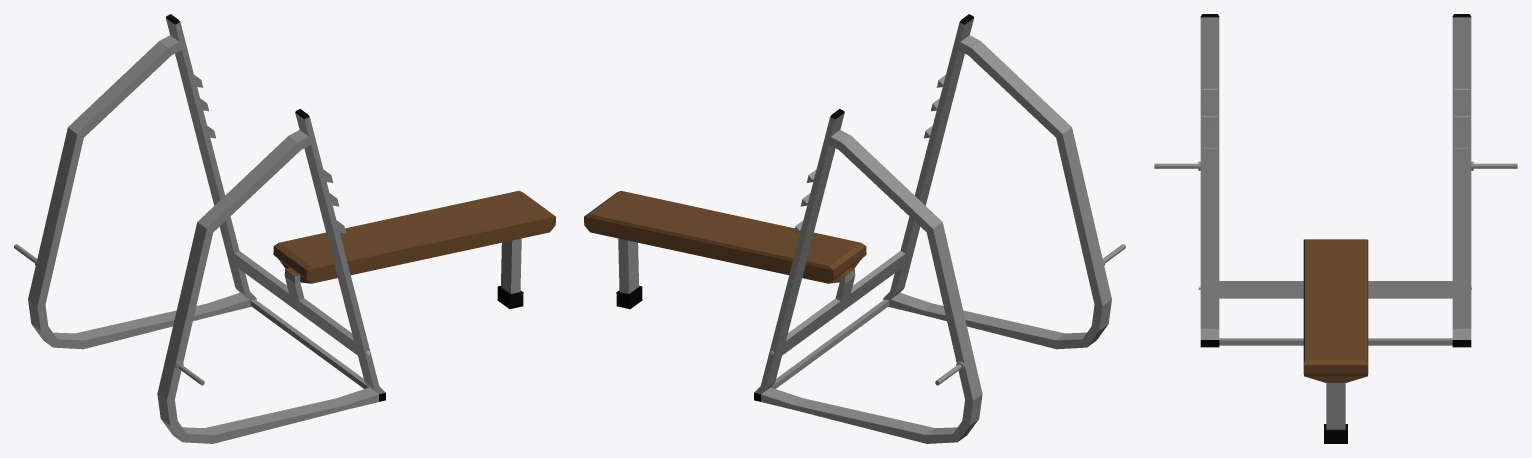
Rendered from BenchPress.fbx.
The picture shows the model from 3 angles, left to right: view 1: azimuth 30°, elevation 25°; view 2: azimuth 150°, elevation 25°; view 3: azimuth 270°, elevation 25°; orthographic projection. The views are drawn at different scales.
Parts seen in each view (by area): view 1: BenchPress; view 2: BenchPress; view 3: BenchPress.
Boxes of the visible parts, x1=… form: BenchPress: x1=14, y1=14, x2=555, y2=443; BenchPress: x1=584, y1=14, x2=1125, y2=443; BenchPress: x1=1154, y1=14, x2=1517, y2=443.
Size of the model in its own units: 238 by 157 by 174.
